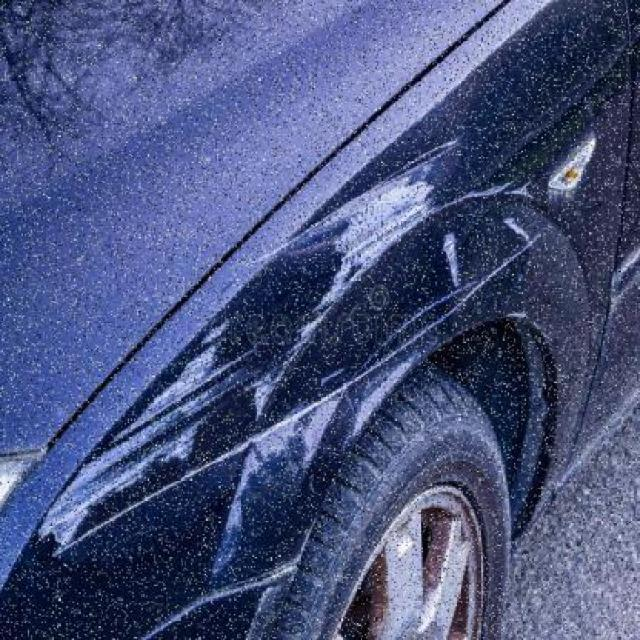fender-dent: (314, 146, 598, 639), (162, 317, 421, 639), (30, 434, 396, 638)
